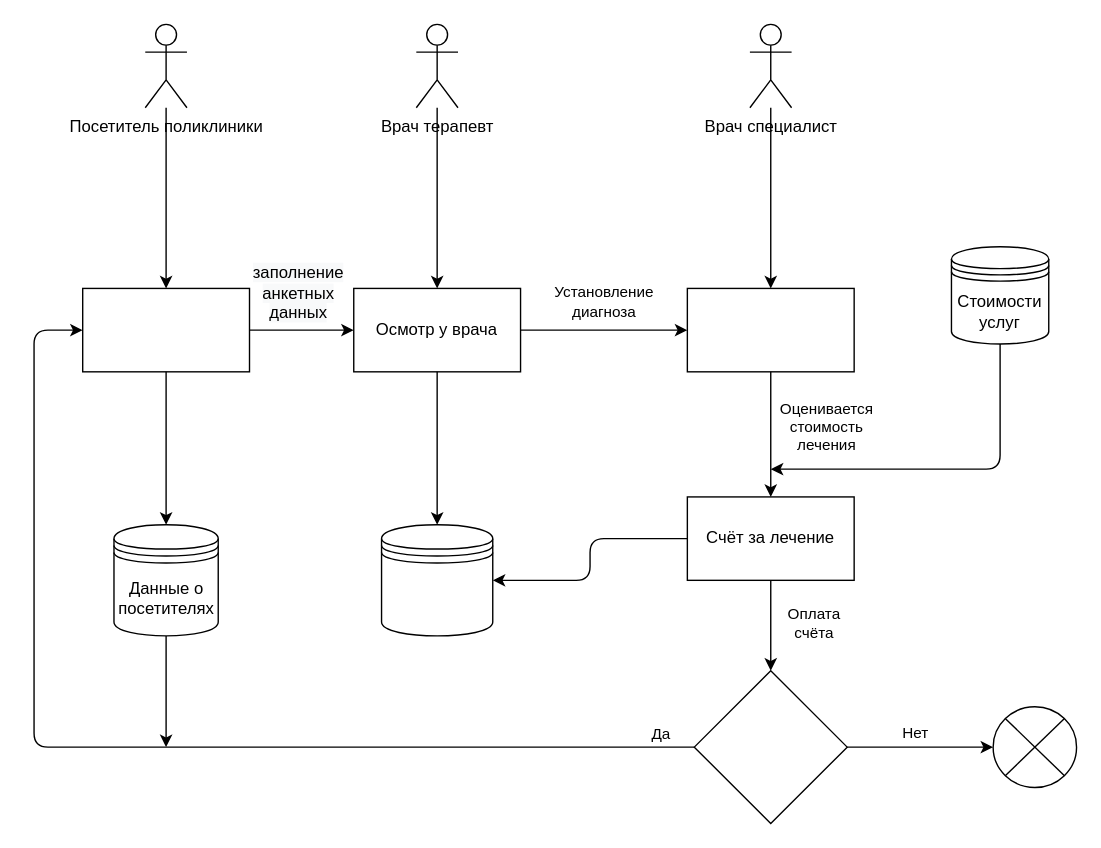
Some shapes in this 1101 by 848 pixel diagram are drawn without their labels. The shapes that lost their labels are listed below. From the top down, each one's box as (x1, y1, x2, y2) in pixels, then its label:
(81, 287, 250, 372): Регистратура
(686, 287, 854, 372): Лечение
(380, 523, 493, 636): Данные о посещениях
(693, 669, 847, 824): Нужно ещё обратится в поликлинику
